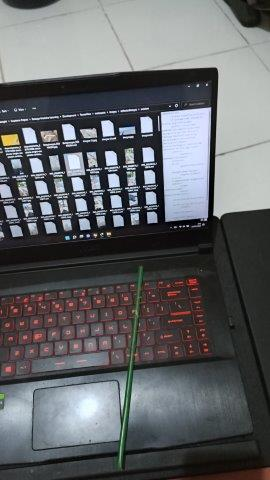sedotan: (117, 266, 144, 466)
